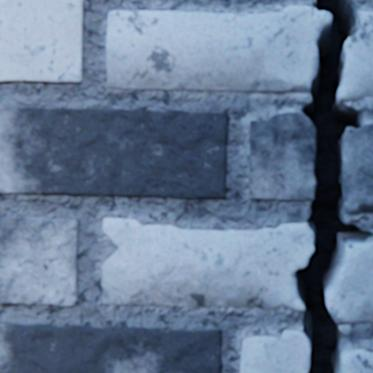brick: (0, 107, 229, 199), (0, 322, 222, 372), (0, 215, 80, 305), (0, 0, 85, 83)
broken_brick: (103, 218, 314, 311), (107, 6, 331, 92), (249, 113, 316, 200), (326, 235, 372, 323), (336, 13, 372, 103), (240, 330, 310, 372), (341, 124, 372, 211), (341, 343, 372, 372)
crack: (295, 0, 372, 372)
